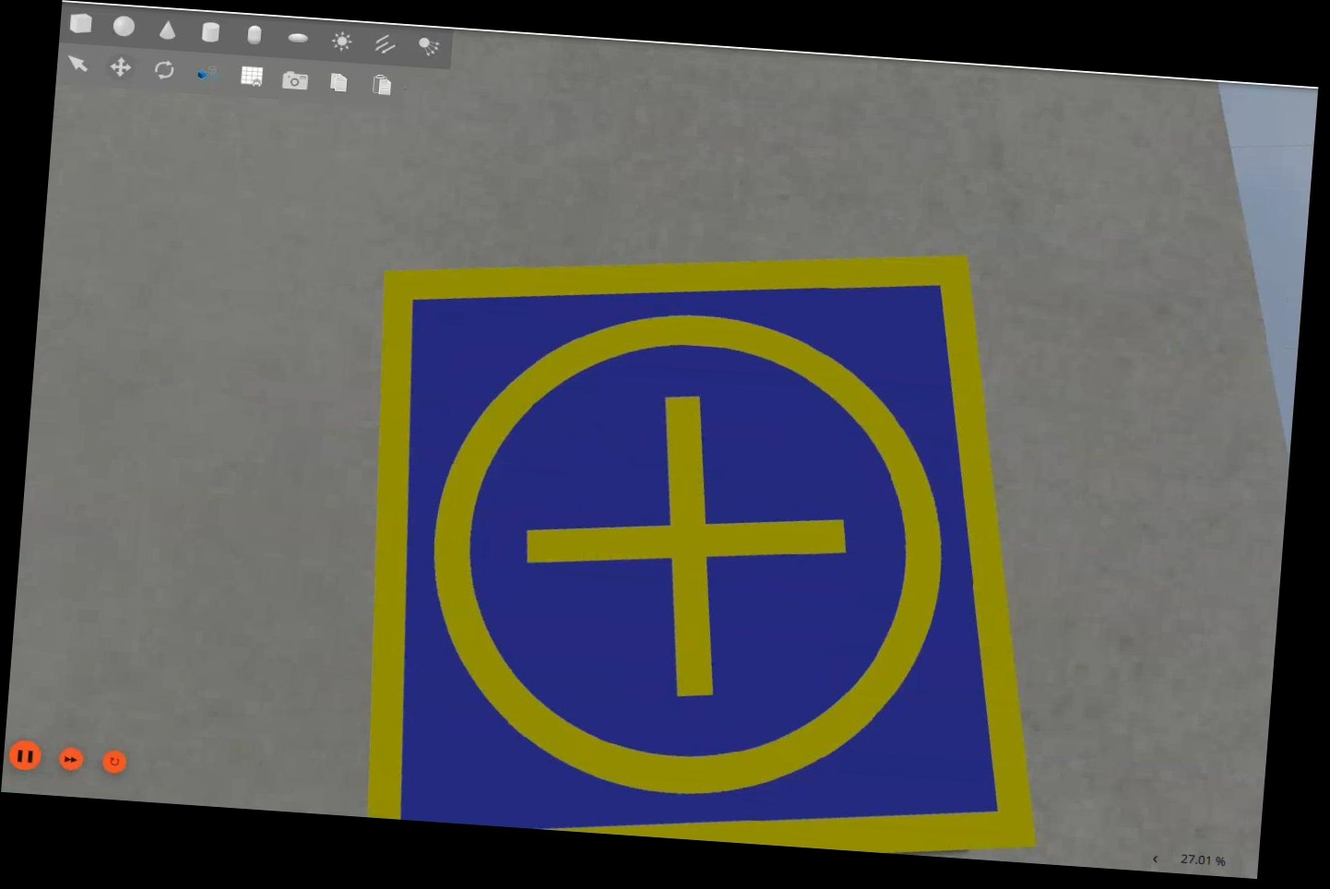small_base: (344, 215, 1085, 864)
